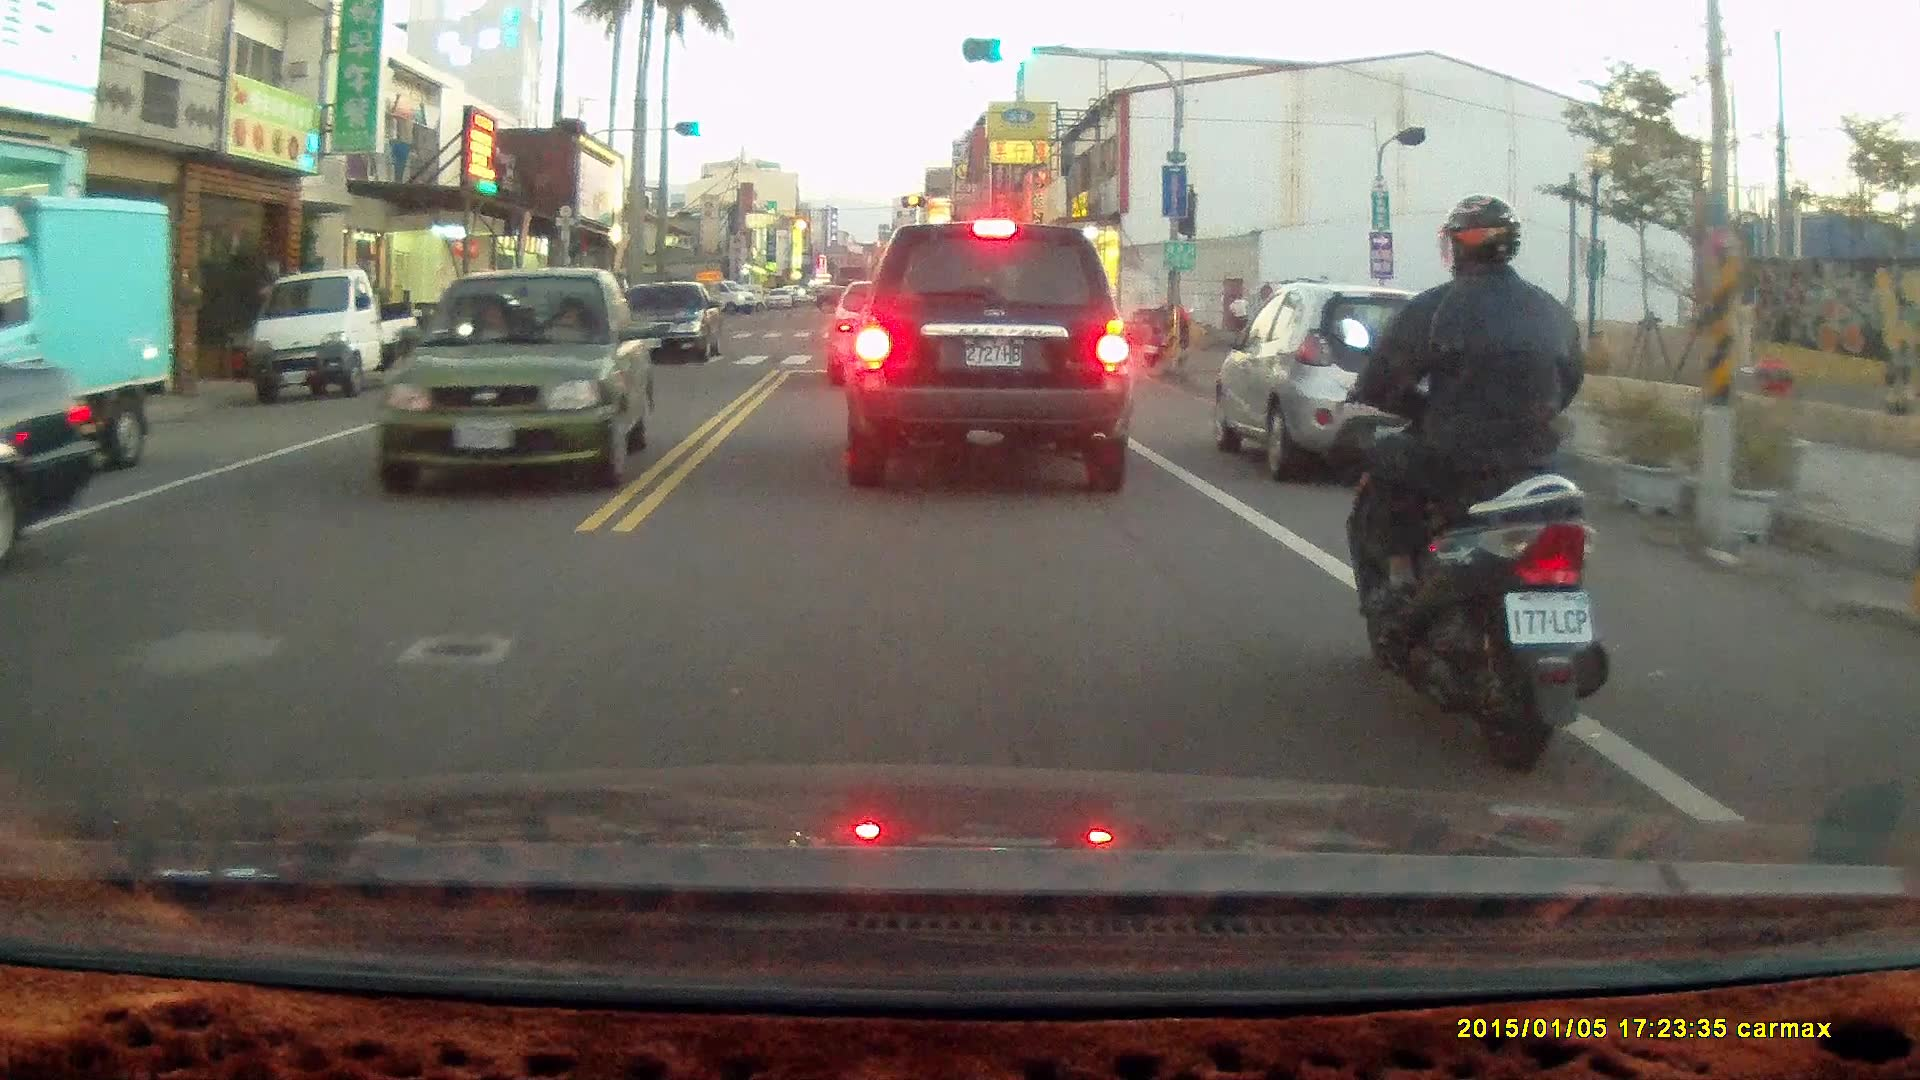pedestrian: (1225, 289, 1253, 360)
rider: (1336, 197, 1617, 780), (1143, 292, 1191, 368)
vehicle: (843, 223, 1137, 496), (370, 266, 649, 493), (1213, 282, 1503, 494), (1, 193, 178, 478), (248, 268, 424, 400), (1, 363, 114, 549), (610, 282, 726, 370)
